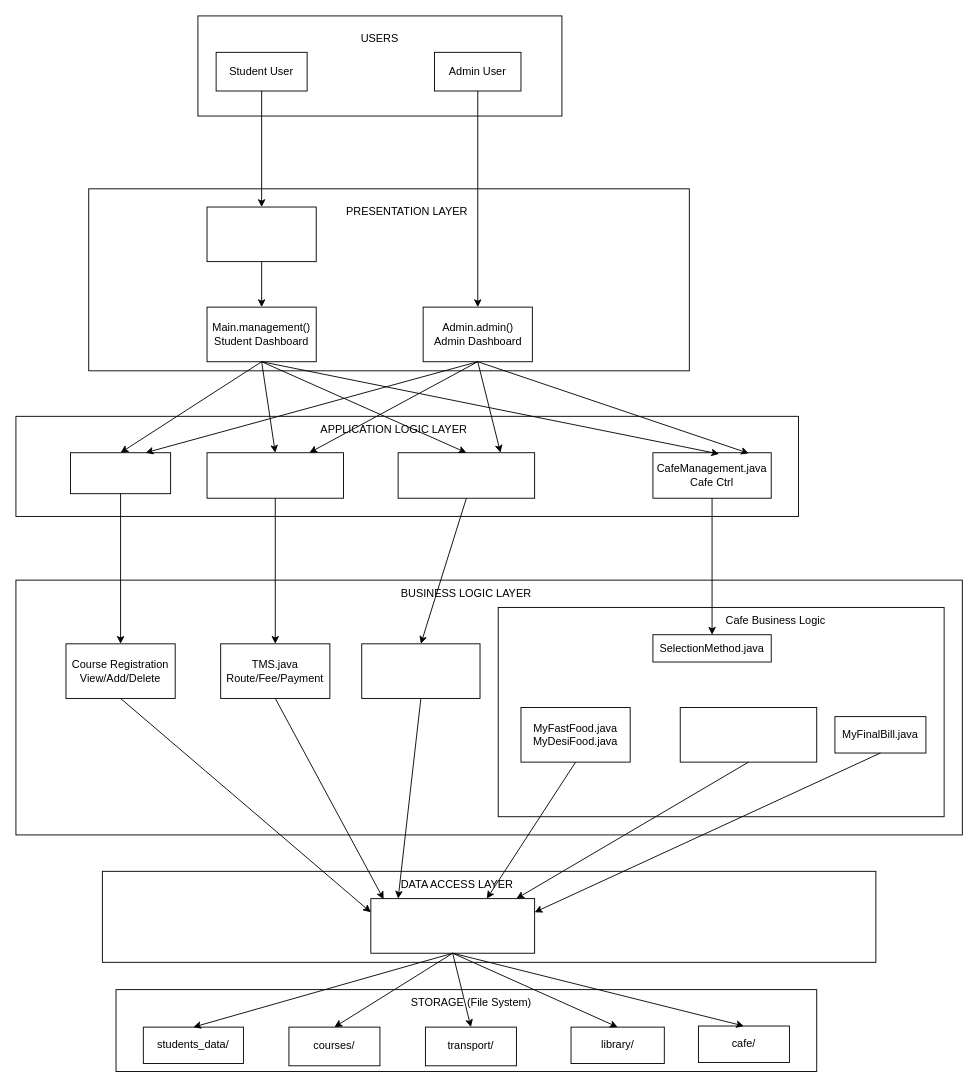
This 978x1087 diagram has some shape labels left out. The centre of each missing label's shape, as x and y in pixels:
"Courses.java Course Ctrl" goes at point 120,473.
"File I/O Operations FileReader/FileWriter" goes at point 452,925.
"Library.java Borrow/Return/Search" goes at point 420,670.
"LibraryManagement.java Library Ctrl" goes at point 466,475.
"Main.Choices() Registration/Login" goes at point 261,234.
"MyCoffe.java MySoftDrinks.java MyJuiceOrPlantDrink.java" goes at point 748,734.
"TransportManagement.java Transport Ctrl" goes at point 275,475.
